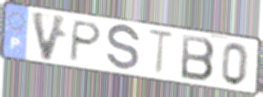0: (220, 41, 251, 88)
B: (179, 33, 217, 83)
P: (67, 18, 104, 64)
S: (104, 24, 142, 74)
T: (146, 27, 177, 79)
V: (30, 9, 70, 63)
